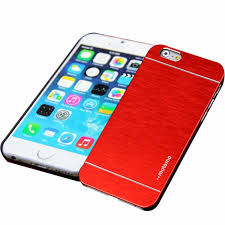iphone: (1, 29, 169, 182)
iphone4: (1, 30, 169, 183)
